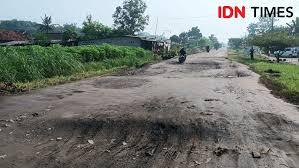Pothole: (254, 103, 298, 168), (180, 49, 257, 83), (89, 64, 166, 91), (27, 78, 86, 104)
